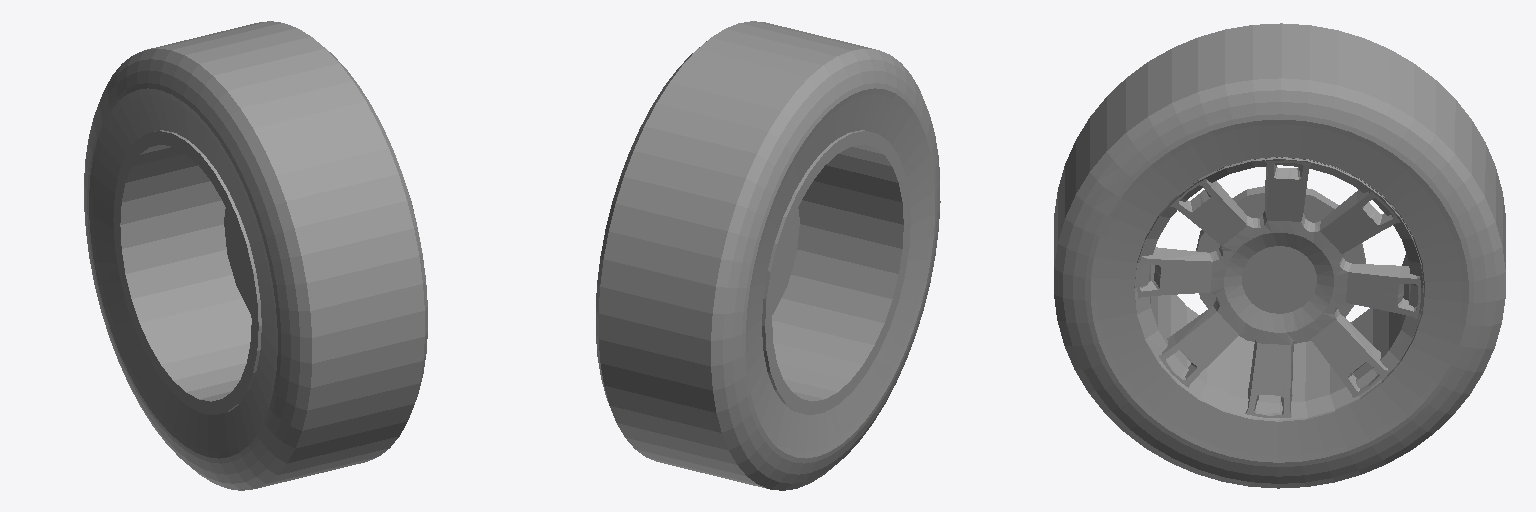
3 renders of one model, left to right at view 1: azimuth 30°, elevation 25°; view 2: azimuth 150°, elevation 25°; view 3: azimuth 270°, elevation 25°, orthographic.
Parts seen in each view (by area): view 1: lincoln_navigator; view 2: lincoln_navigator; view 3: lincoln_navigator.
Part boxes in pixels (bbox=[...]): lincoln_navigator: bbox=[84, 21, 427, 490]; lincoln_navigator: bbox=[596, 21, 940, 490]; lincoln_navigator: bbox=[1054, 23, 1505, 488].
Size of the model in its own units: 0.9025 by 2.43 by 2.43.